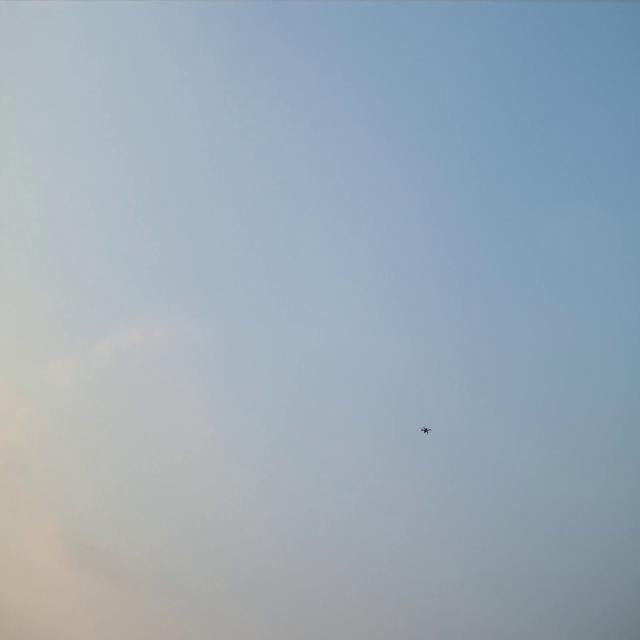UAV: (420, 423, 431, 434)
